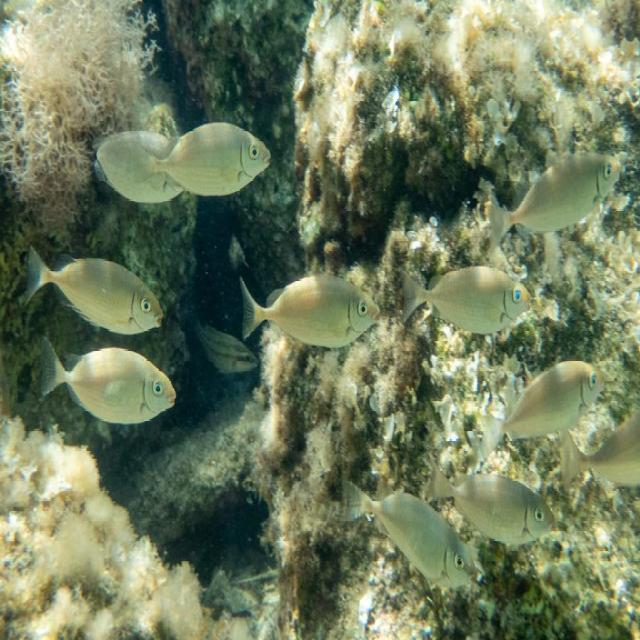Sokar Baligi: (14, 225, 170, 342), (483, 136, 633, 254), (121, 95, 275, 202), (226, 260, 388, 360), (31, 334, 185, 438), (396, 244, 538, 352)
